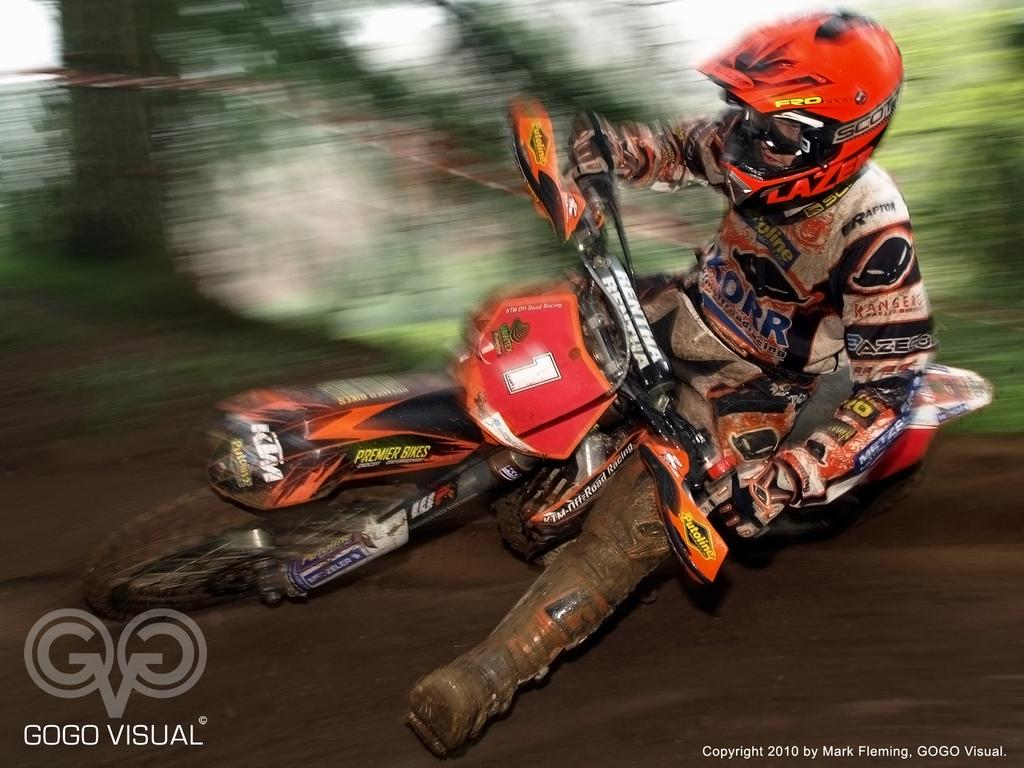helmet: (690, 12, 904, 210)
